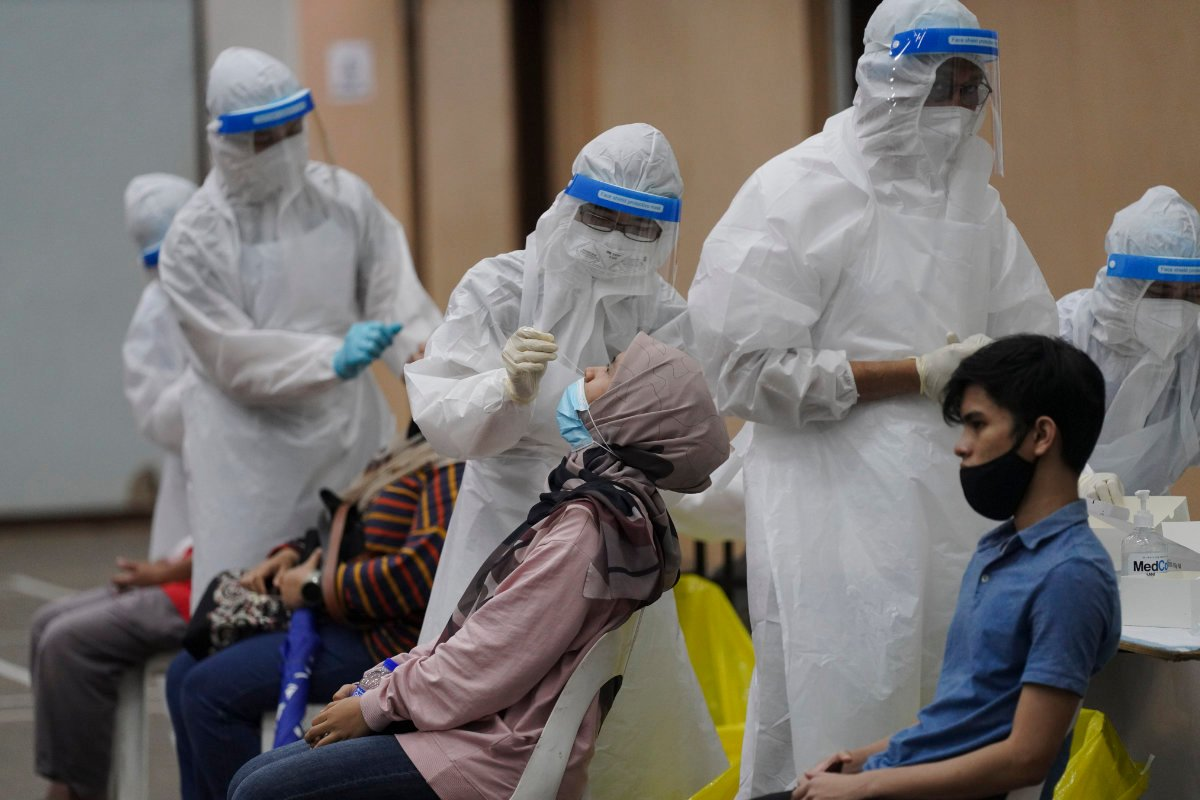Coverall: (687, 3, 1043, 800), (405, 115, 719, 715), (160, 48, 434, 672)
Face_Shield: (885, 21, 1010, 179), (551, 162, 681, 312), (213, 83, 333, 238), (1100, 245, 1200, 369)
Gloves: (903, 327, 1012, 407), (499, 320, 565, 415), (326, 309, 407, 383)
mask_weared_incorrect: (946, 379, 1035, 528), (551, 347, 627, 457)
with_mask: (234, 108, 319, 213), (918, 69, 989, 179), (571, 204, 664, 285), (1135, 270, 1200, 361)
